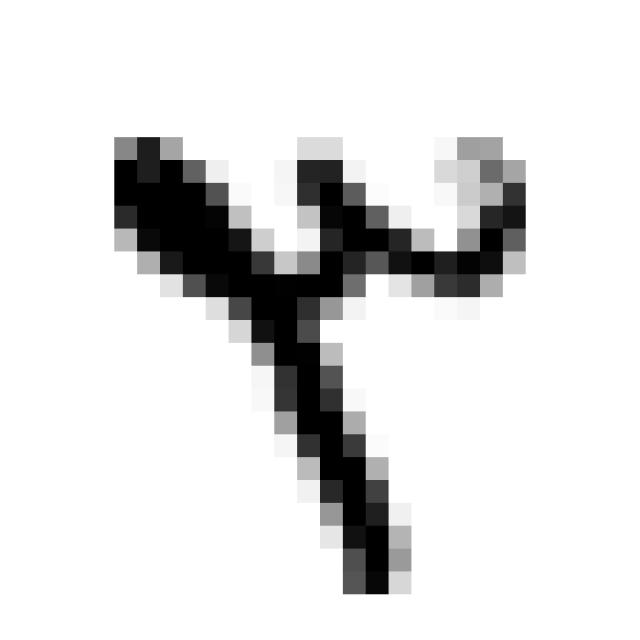3 -three-: (80, 103, 553, 617)
